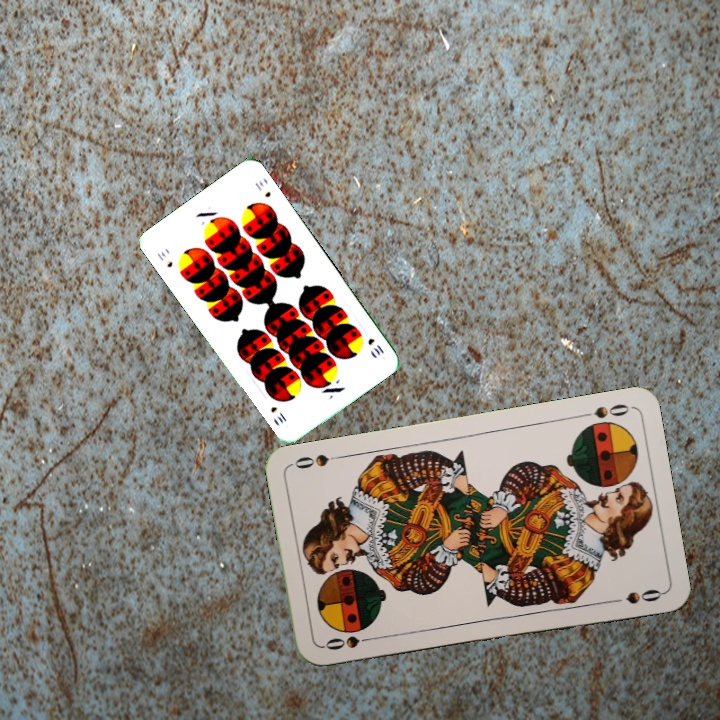S10: (364, 334, 387, 358), (153, 247, 175, 270)
SO: (320, 631, 379, 653), (575, 400, 632, 421)
